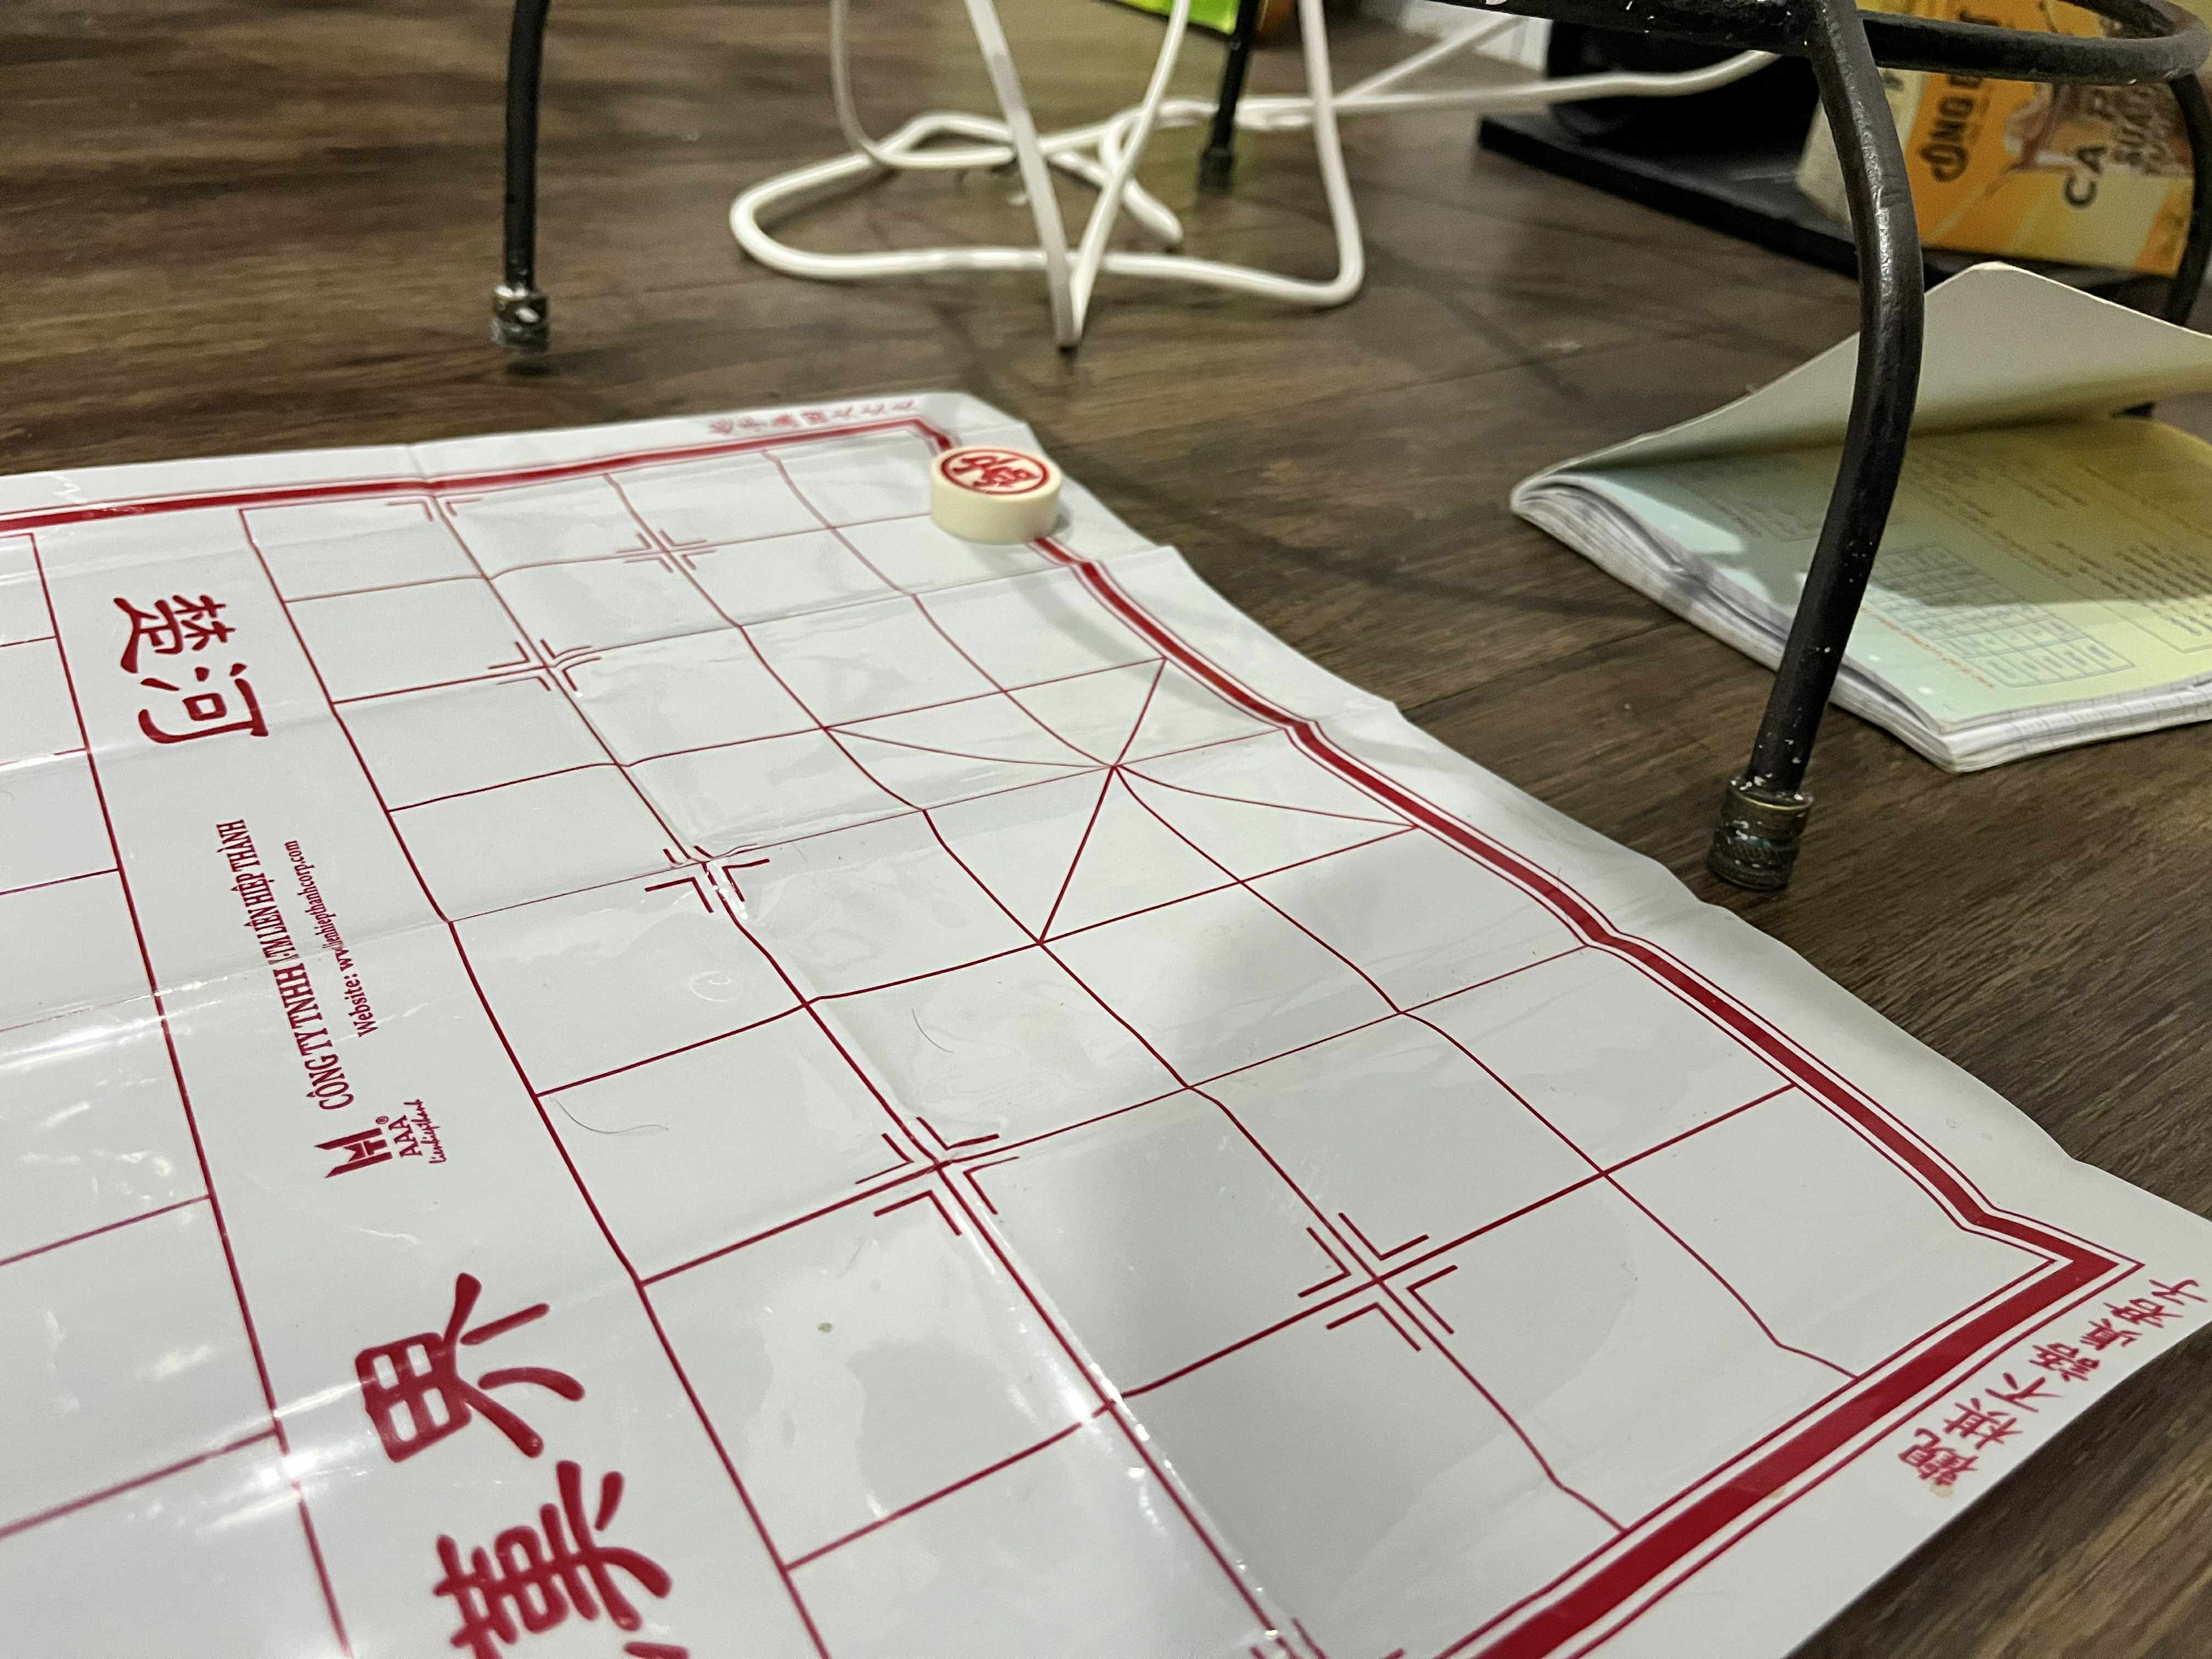red-general: (928, 443, 1065, 509)
